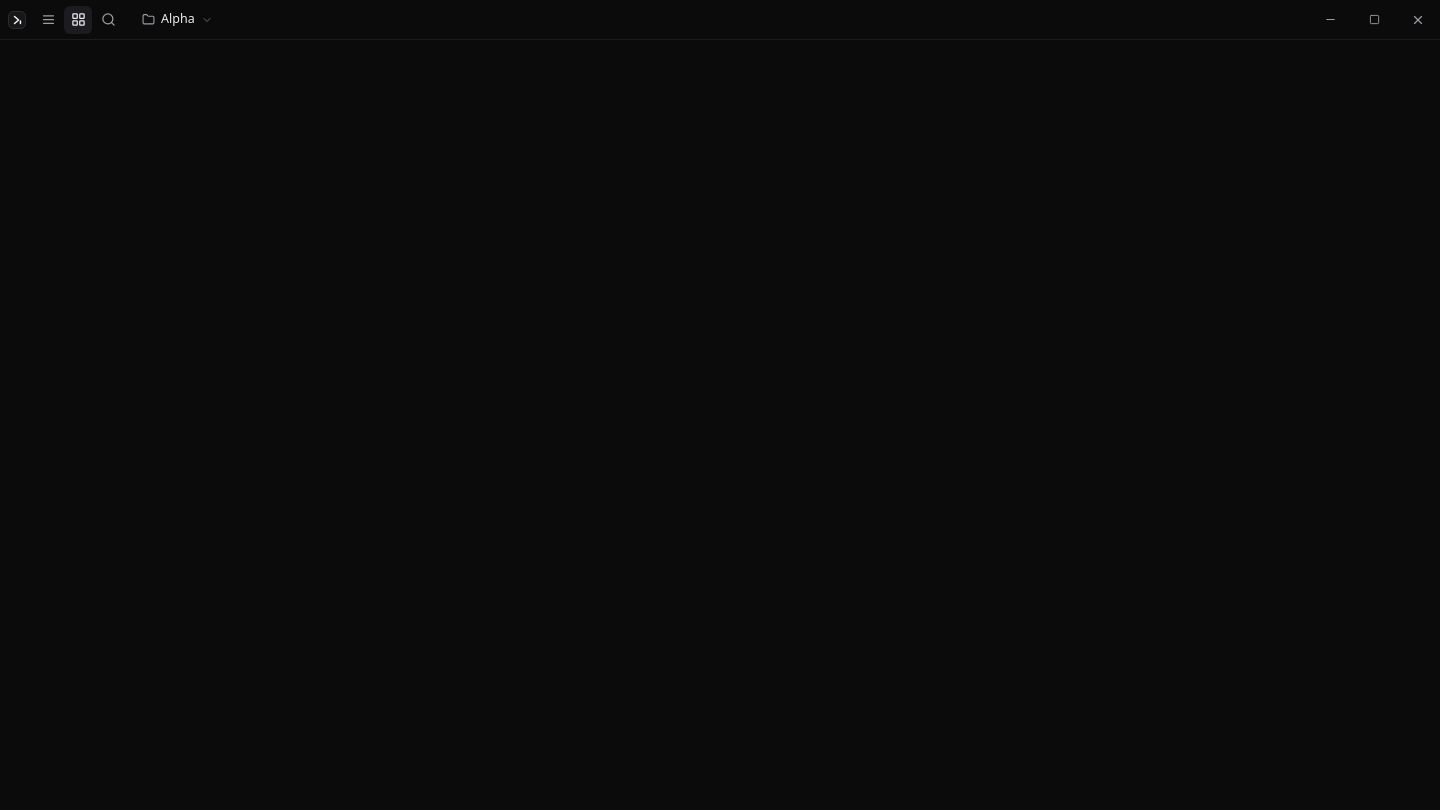
Test: TopBar › search popup › filters results as the user types (debounced)
Click the button with test id "topbar-search". click: (108, 20)
box: [94,6,122,34]
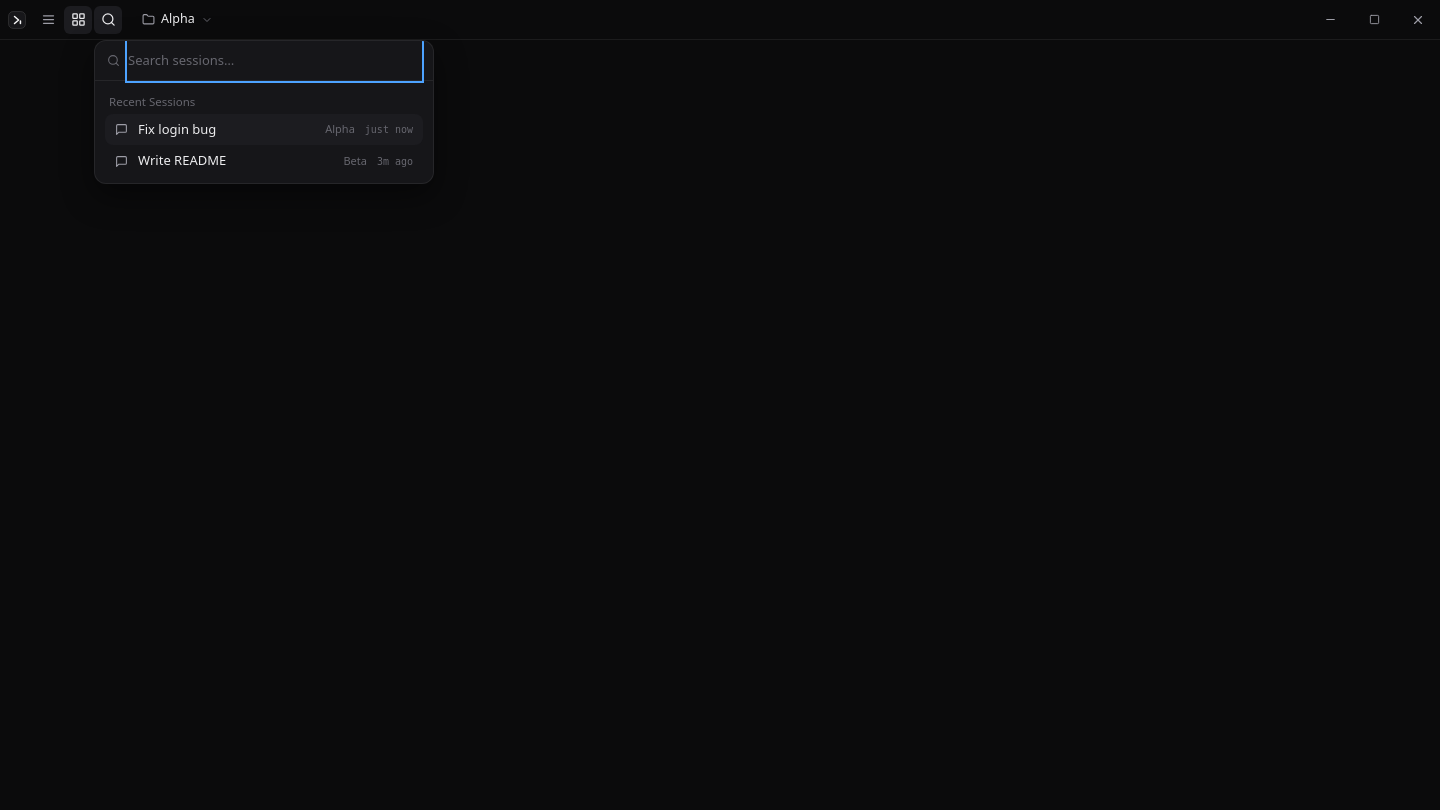
Check: the dialog with test id "search-sessions" is shown, box [94,40,434,184]
Type "README" into the field with test id "search-input". click: (274, 60)
box: [128,40,421,80]
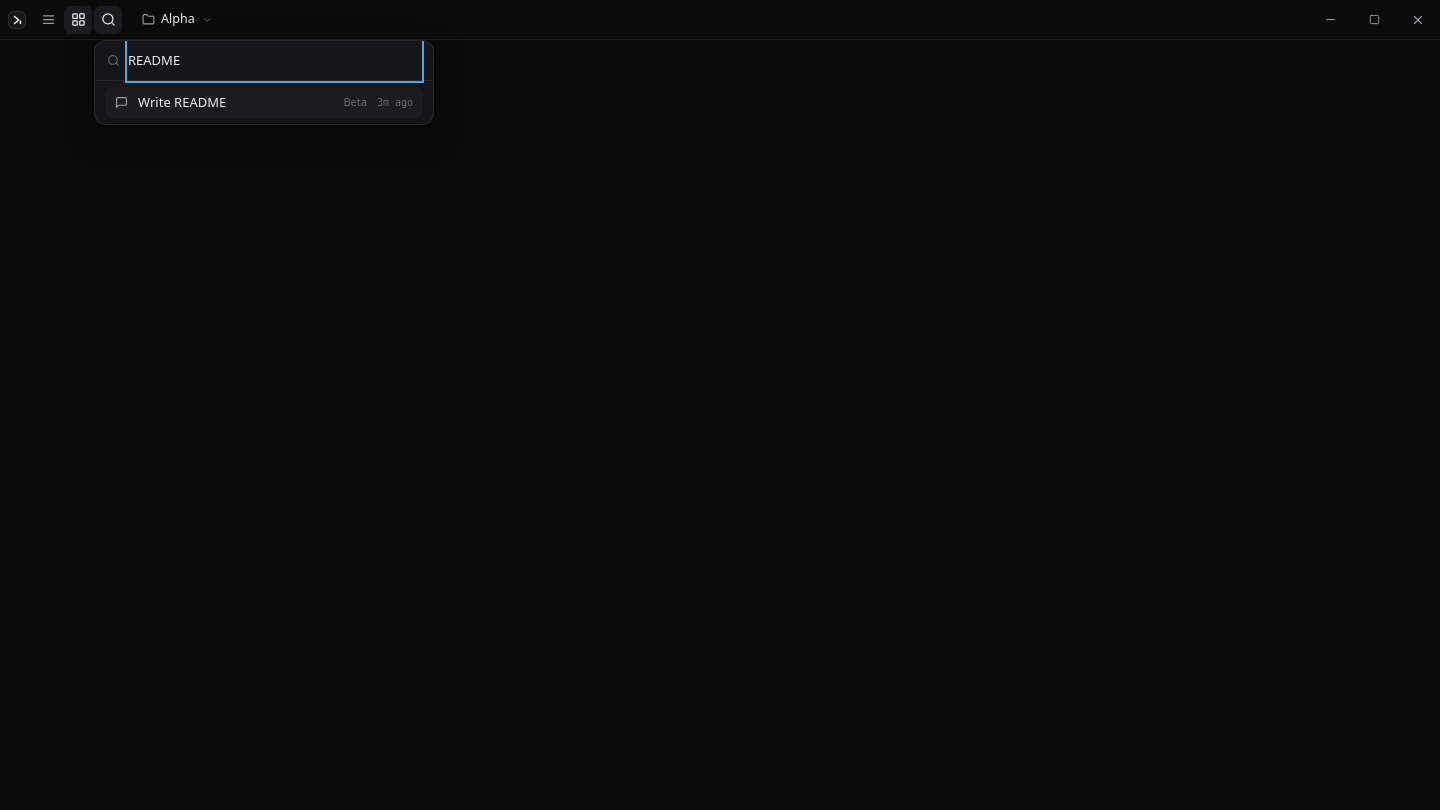
Matches by project name too.
Replace the text in the field with test id "search-input" with "alpha". click: (274, 60)
box: [128,40,421,80]
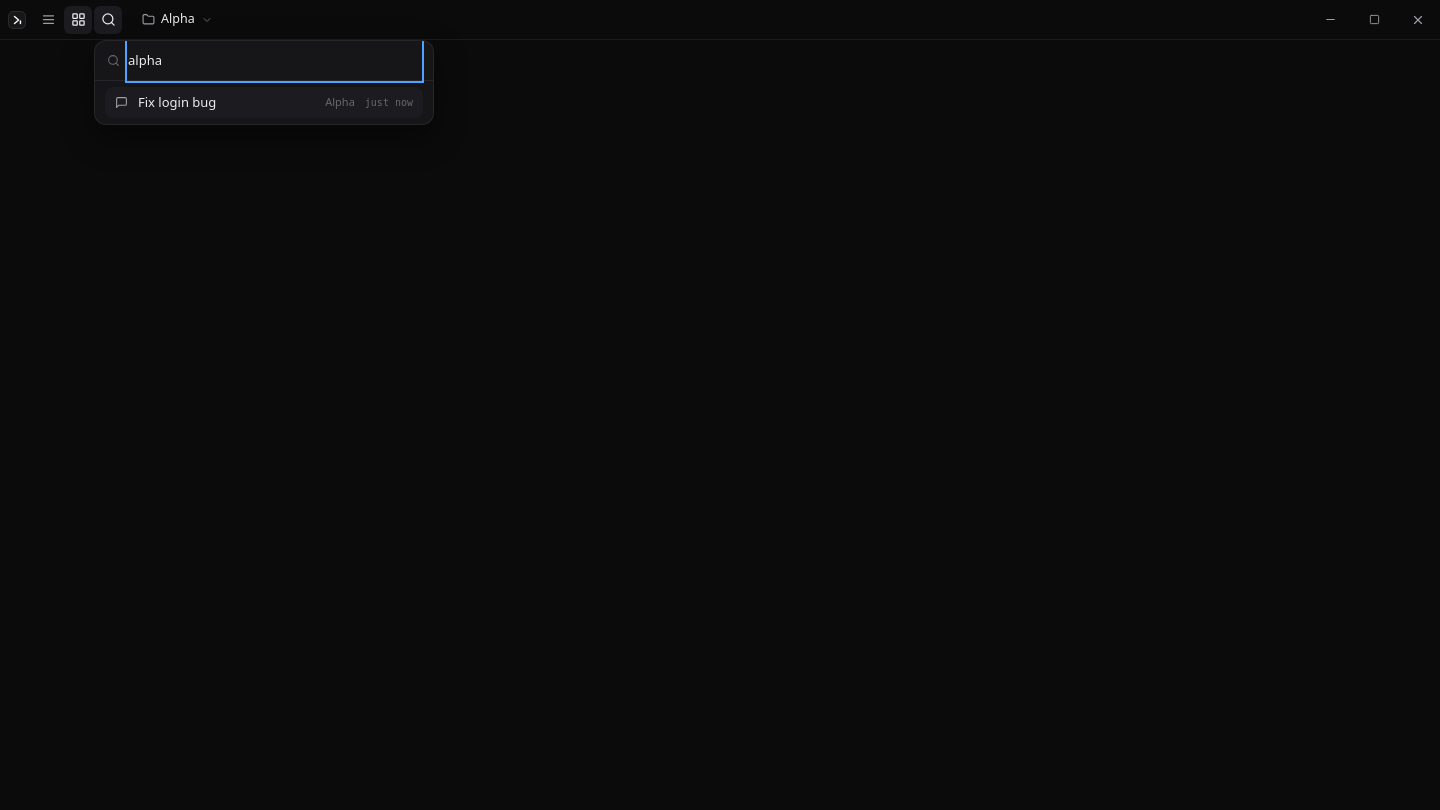
Check: the option with test id "search-result-" shows "Fix login bug", box [105,86,423,118]
